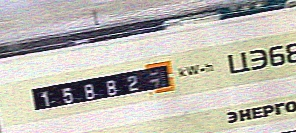1: (38, 90, 51, 109)
2: (125, 74, 138, 93)
5: (59, 87, 74, 105)
7: (148, 77, 160, 91)
8: (82, 83, 95, 101), (105, 79, 117, 97)
screen: (23, 57, 181, 117)
